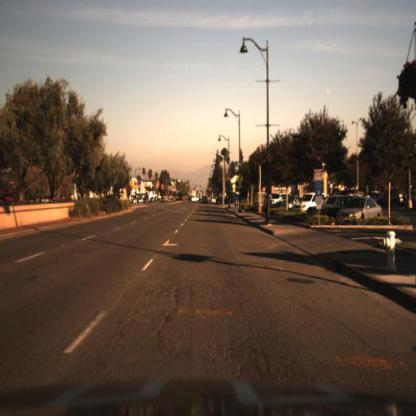car: (340, 193, 389, 229), (335, 195, 385, 229), (316, 190, 341, 217), (296, 192, 321, 215), (267, 190, 291, 211)
pedestrian: (264, 196, 269, 219)
